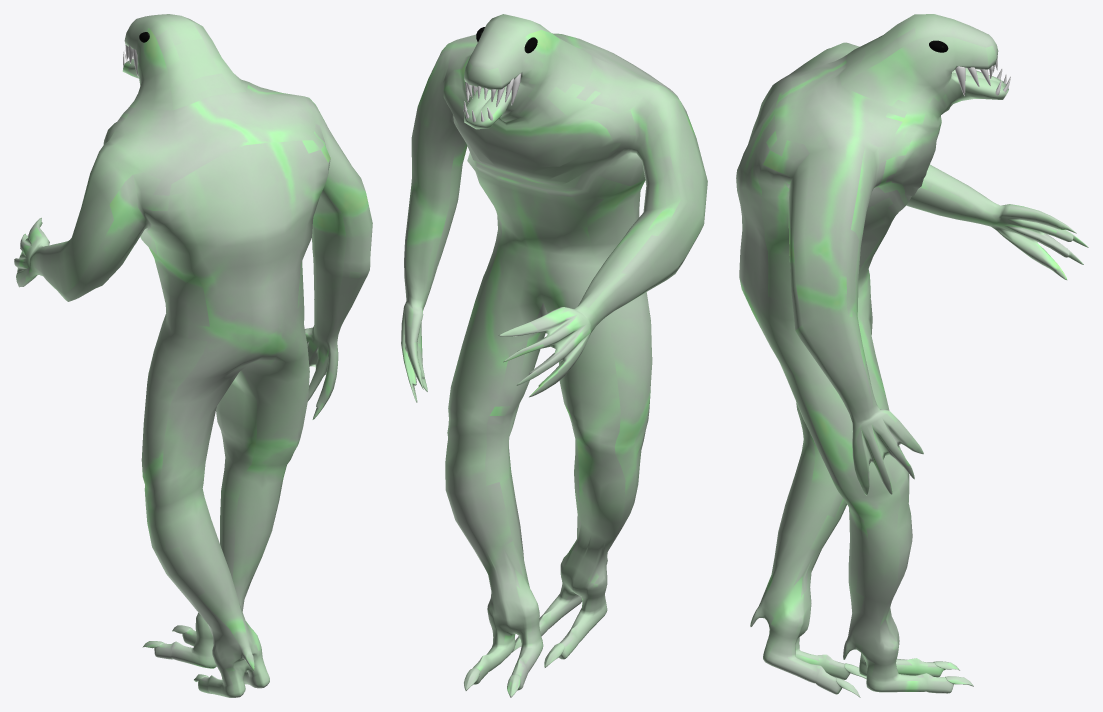
Rendered from Berserkercorrer.0091.obj.
The picture shows the model from 3 angles, left to right: view 1: azimuth 30°, elevation 25°; view 2: azimuth 150°, elevation 25°; view 3: azimuth 270°, elevation 25°; orthographic projection. The views are drawn at different scales.
Visible parts, largest first — view 1: polySurface27; view 2: polySurface27; view 3: polySurface27.
Part boxes in pixels (bbox=[...]): polySurface27: bbox=[14, 14, 372, 697]; polySurface27: bbox=[401, 14, 707, 697]; polySurface27: bbox=[736, 14, 1088, 697].
Size of the model in its own units: 11.01 by 24.19 by 11.62.
Materials: 1 (1 with a texture image).
